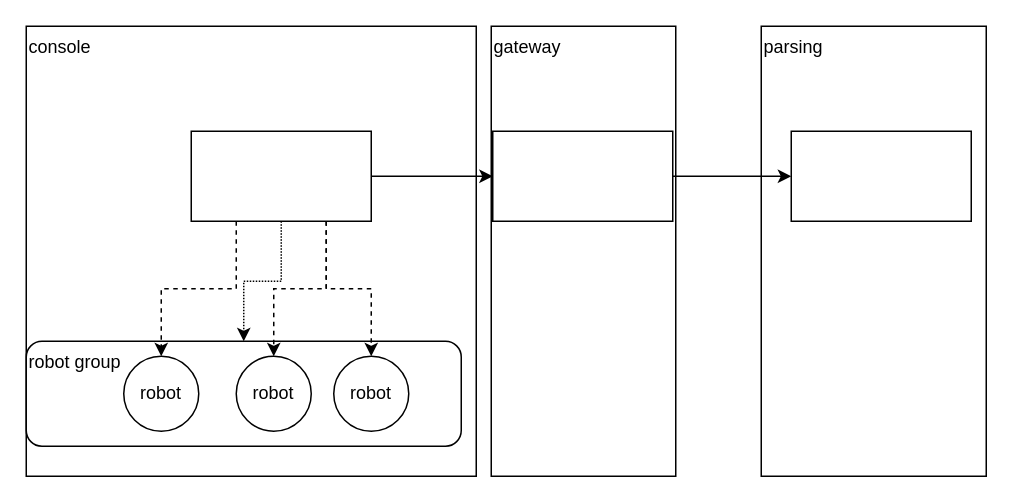
Some shapes in this 1013 by 503 pixel diagram are drawn without their labels. The centre of each missing label's shape, as x and y in pixels:
"application" belongs at (582,175).
"groupid" belongs at (880,175).
"organization" belongs at (280,175).
